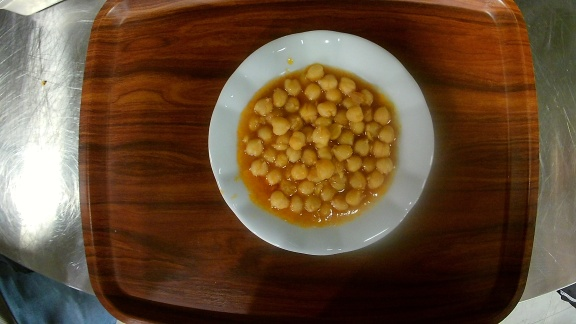sulunohut: (208, 30, 438, 257)
